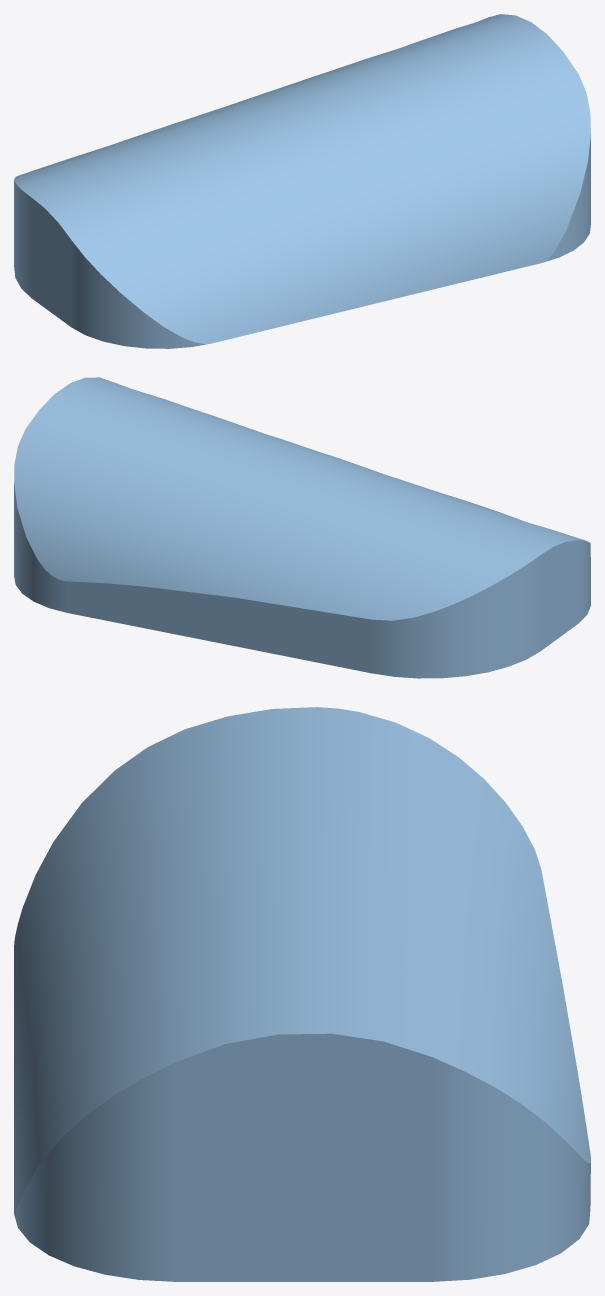
3 views of the same model, one above another, from view 1: azimuth 30°, elevation 25°; view 2: azimuth 150°, elevation 25°; view 3: azimuth 270°, elevation 25° (orthographic). The views are drawn at different scales.
Parts seen in each view (by area): view 1: =>[0:1:1:2]; view 2: =>[0:1:1:2]; view 3: =>[0:1:1:2].
Boxes of the visible parts, box(x1,y1,x2,y2) form: =>[0:1:1:2]: box(14, 14, 590, 348); =>[0:1:1:2]: box(14, 377, 590, 678); =>[0:1:1:2]: box(14, 707, 590, 1281).
Bounding box in the file's own units: 38.92 × 11.05 × 23.28.
